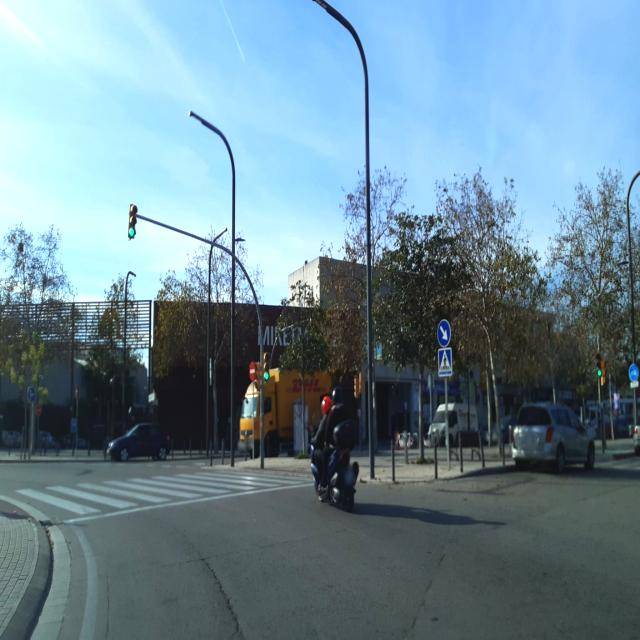bike: (309, 420, 360, 513)
car: (512, 401, 596, 474), (106, 421, 172, 463), (428, 400, 481, 447), (36, 431, 61, 450), (1, 428, 23, 448)
